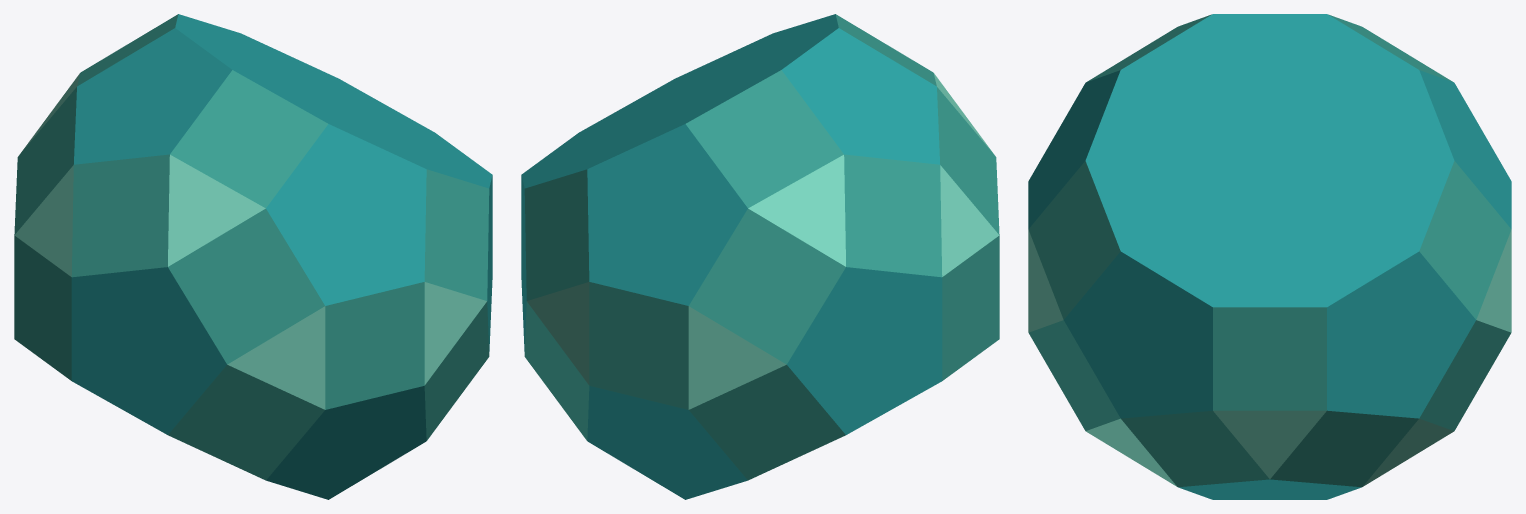
The model's file is J80.RombicosidodecaedroParabidisminuido.gltf.
3 views of the same model, side by side, from view 1: azimuth 30°, elevation 25°; view 2: azimuth 150°, elevation 25°; view 3: azimuth 270°, elevation 25° (orthographic).
Visible parts, largest first — view 1: J80.RombicosidodecaedroParabidisminuido; view 2: J80.RombicosidodecaedroParabidisminuido; view 3: J80.RombicosidodecaedroParabidisminuido.
Part boxes in pixels (x1,y1,x2,y2): J80.RombicosidodecaedroParabidisminuido: [14, 14, 492, 499]; J80.RombicosidodecaedroParabidisminuido: [521, 14, 999, 499]; J80.RombicosidodecaedroParabidisminuido: [1028, 14, 1511, 499].
Bounding box in the file's own units: 18.97 × 18.97 × 18.97.
